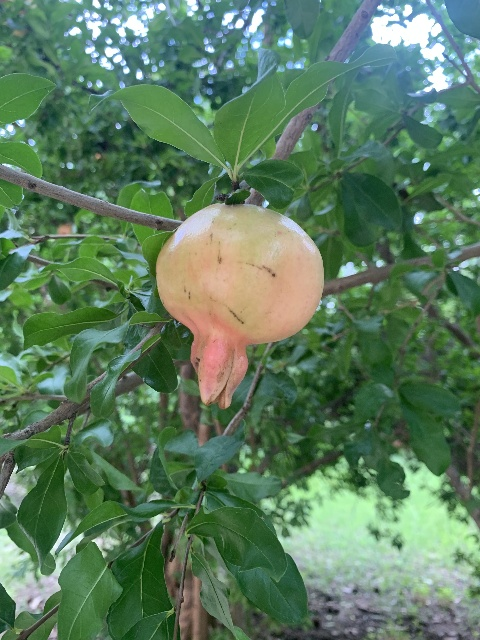mid-growth: (155, 203, 325, 409)
